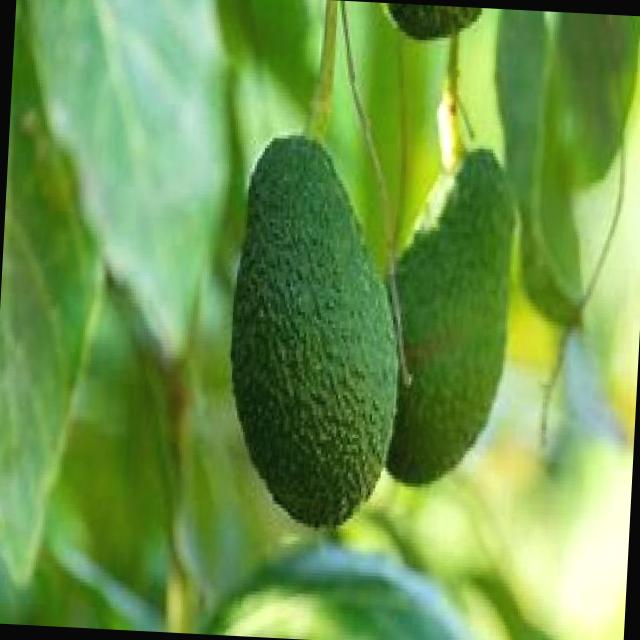avocado: (211, 133, 419, 542)
